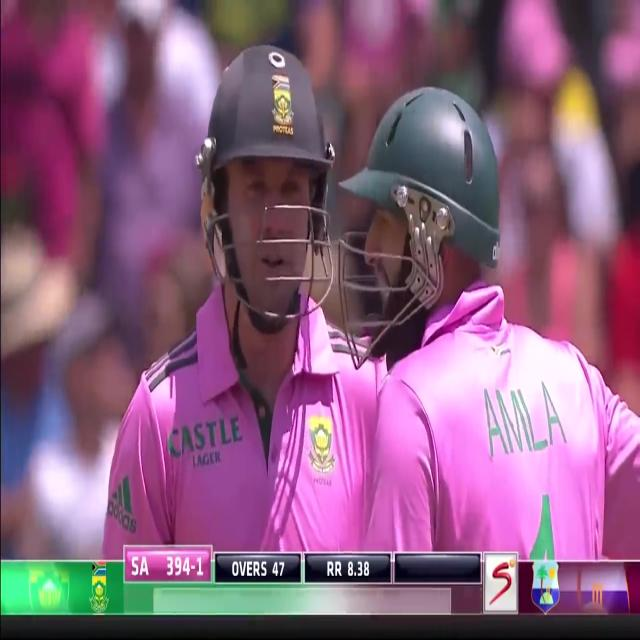Ball: (326, 92, 640, 559), (102, 26, 342, 555)
